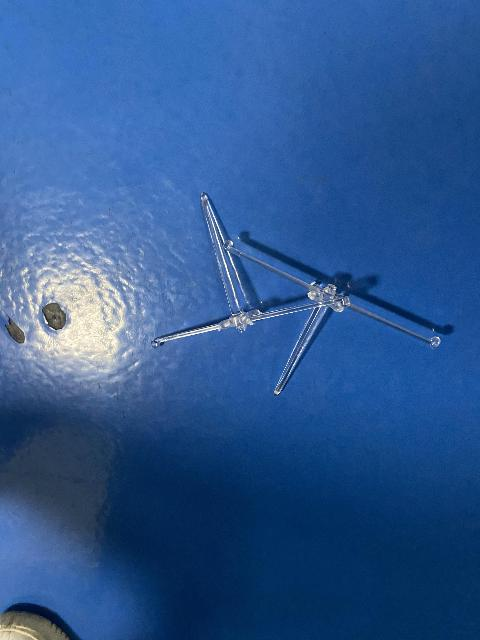Plastik: (225, 235, 443, 394), (159, 181, 351, 356)
